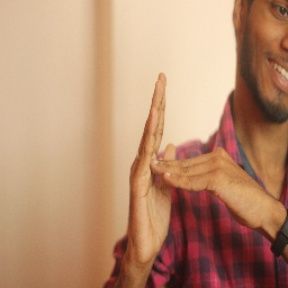Z: (114, 67, 271, 244)
